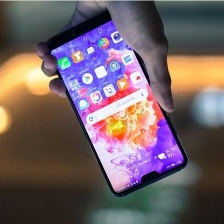phone: (42, 10, 189, 201)
